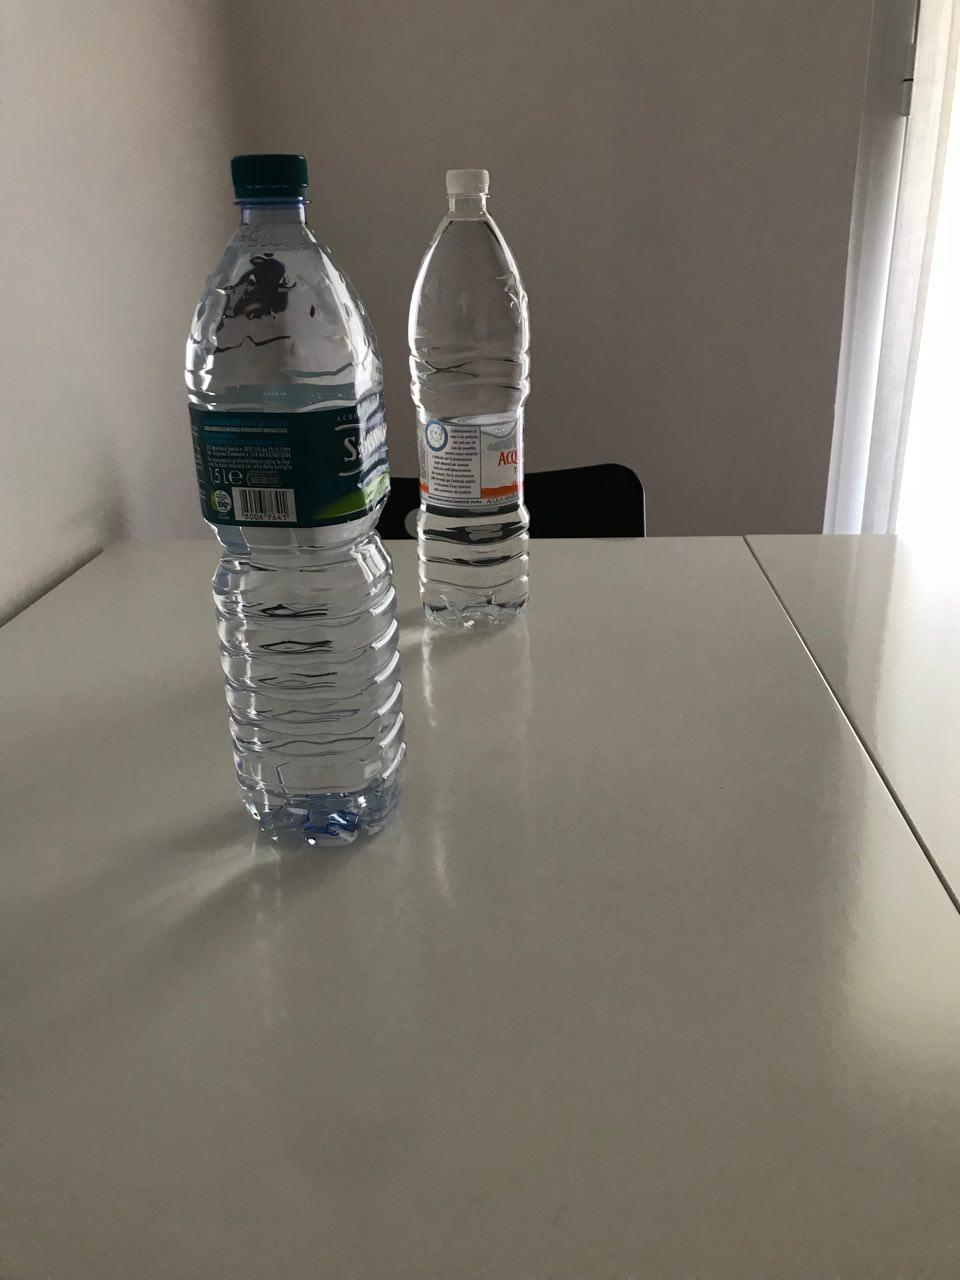san_bernardo: (182, 153, 409, 850)
